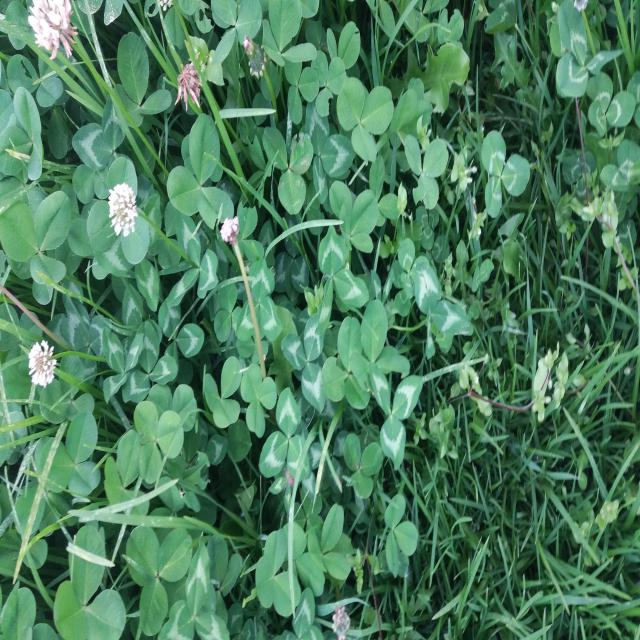Four Leaf Clover: (329, 180, 377, 252)
